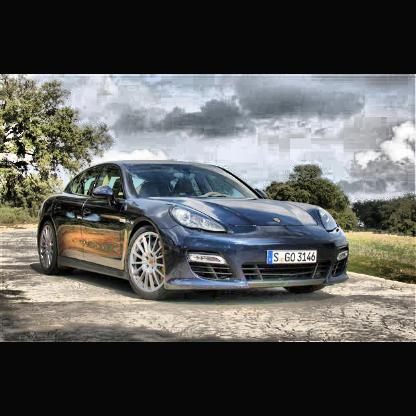Porsche Panamera Sedan 2012: (39, 160, 352, 299)
